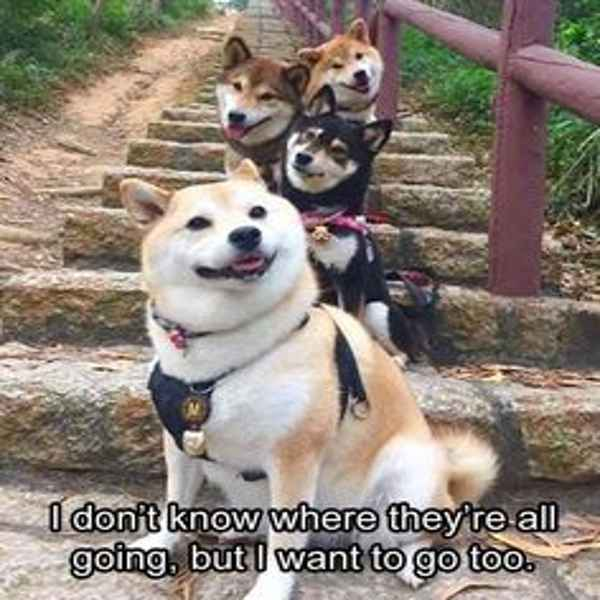doge: (118, 160, 296, 321), (213, 35, 311, 156), (298, 18, 392, 106)
